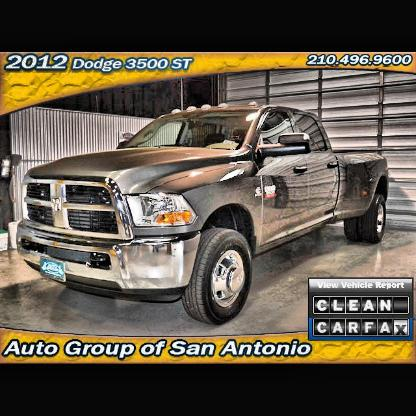Dodge Ram Pickup 3500 Crew Cab 2010: (18, 104, 391, 326)
